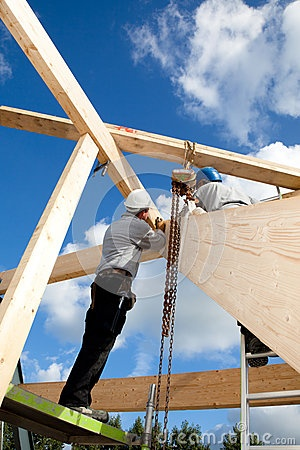blue: (195, 164, 220, 192)
white: (120, 188, 152, 220)
